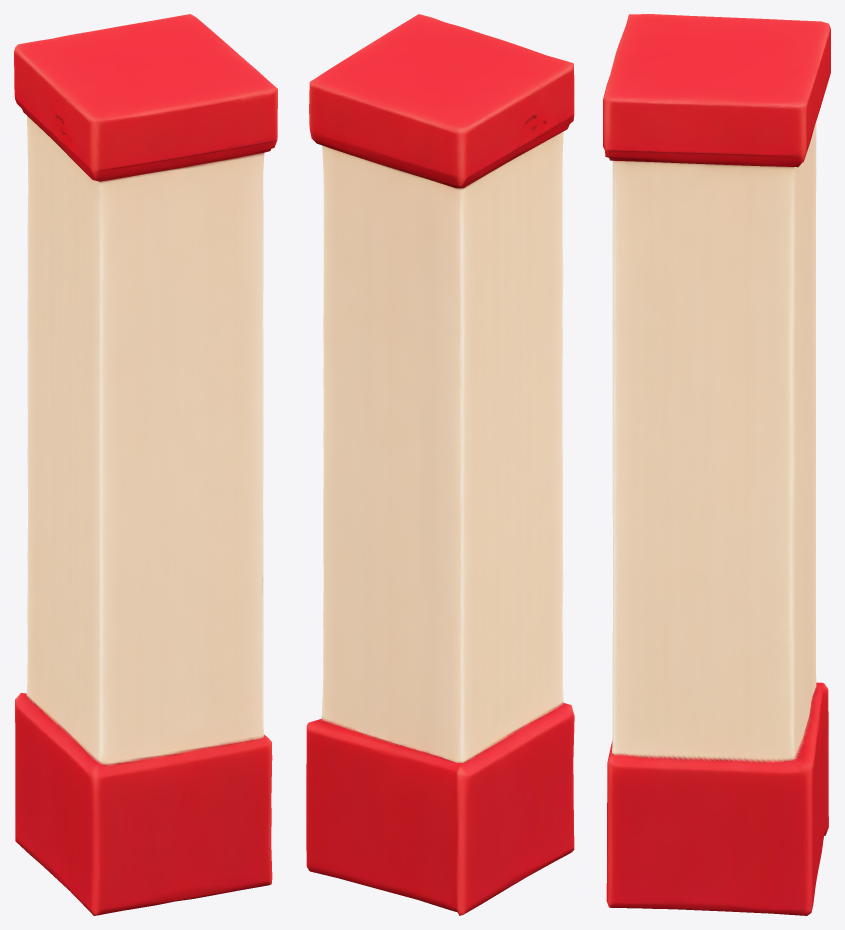
Rendered from 01-pillar-v2.fbx.
The picture shows the model from 3 angles, left to right: view 1: azimuth 30°, elevation 25°; view 2: azimuth 150°, elevation 25°; view 3: azimuth 270°, elevation 25°; orthographic projection. The views are drawn at different scales.
Parts seen in each view (by area): view 1: model; view 2: model; view 3: model.
Boxes of the visible parts, box(x1,y1,x2,y2) form: model: box(14, 14, 277, 915); model: box(306, 14, 574, 915); model: box(603, 14, 830, 915).
Bounding box in the file's own units: 46.49 × 190 × 48.2.
